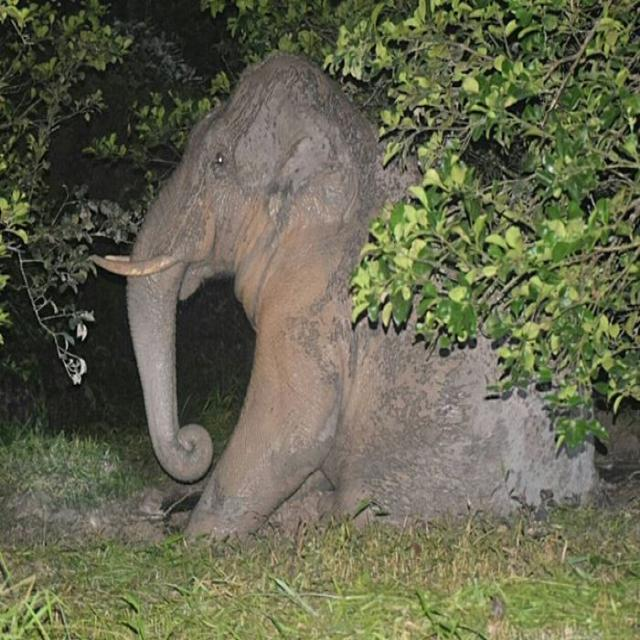Elephant: (98, 35, 616, 557)
